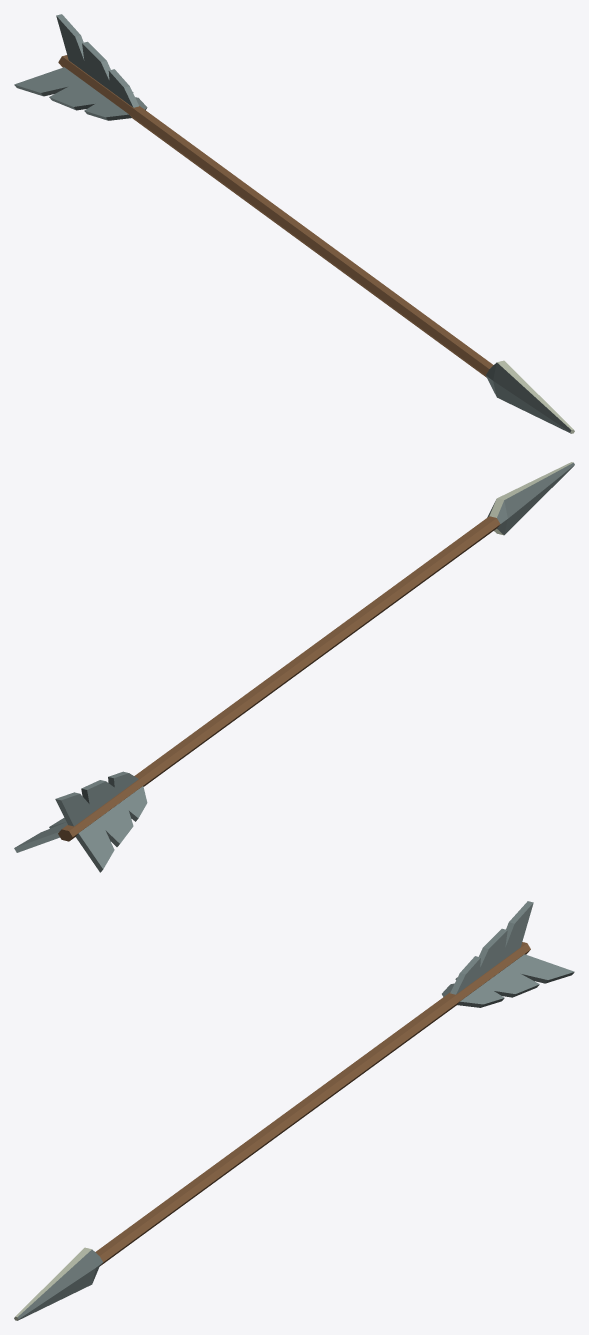
File: arrow-broad-fletching.glb
The picture shows the model from 3 angles, top to bottom: view 1: azimuth 30°, elevation 25°; view 2: azimuth 150°, elevation 25°; view 3: azimuth 330°, elevation 25°; orthographic projection.
Visible parts, largest first — view 1: arrow-broad-fletching runtime mesh; view 2: arrow-broad-fletching runtime mesh; view 3: arrow-broad-fletching runtime mesh.
Boxes of the visible parts, x1=… form: arrow-broad-fletching runtime mesh: x1=14, y1=14, x2=574, y2=433; arrow-broad-fletching runtime mesh: x1=14, y1=462, x2=574, y2=872; arrow-broad-fletching runtime mesh: x1=14, y1=901, x2=574, y2=1320.
Size of the model in its own units: 1.06 by 0.72 by 10.57.
